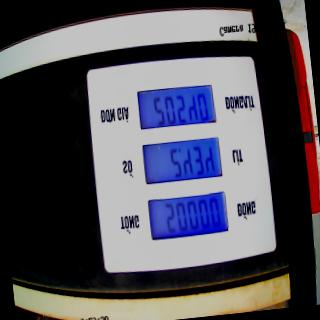screen: (135, 79, 231, 242)
